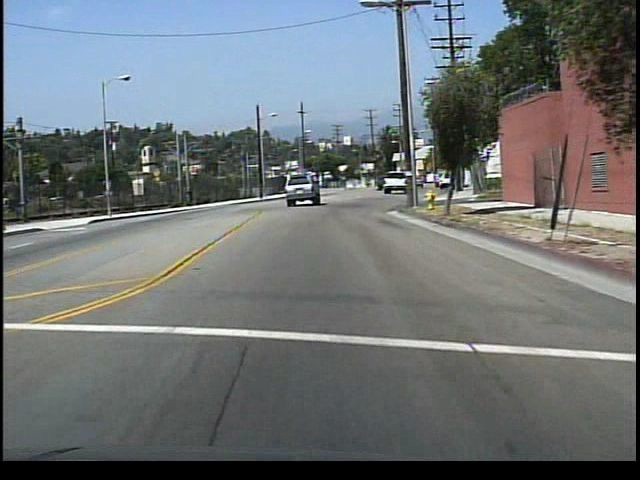person: (182, 183, 198, 209)
